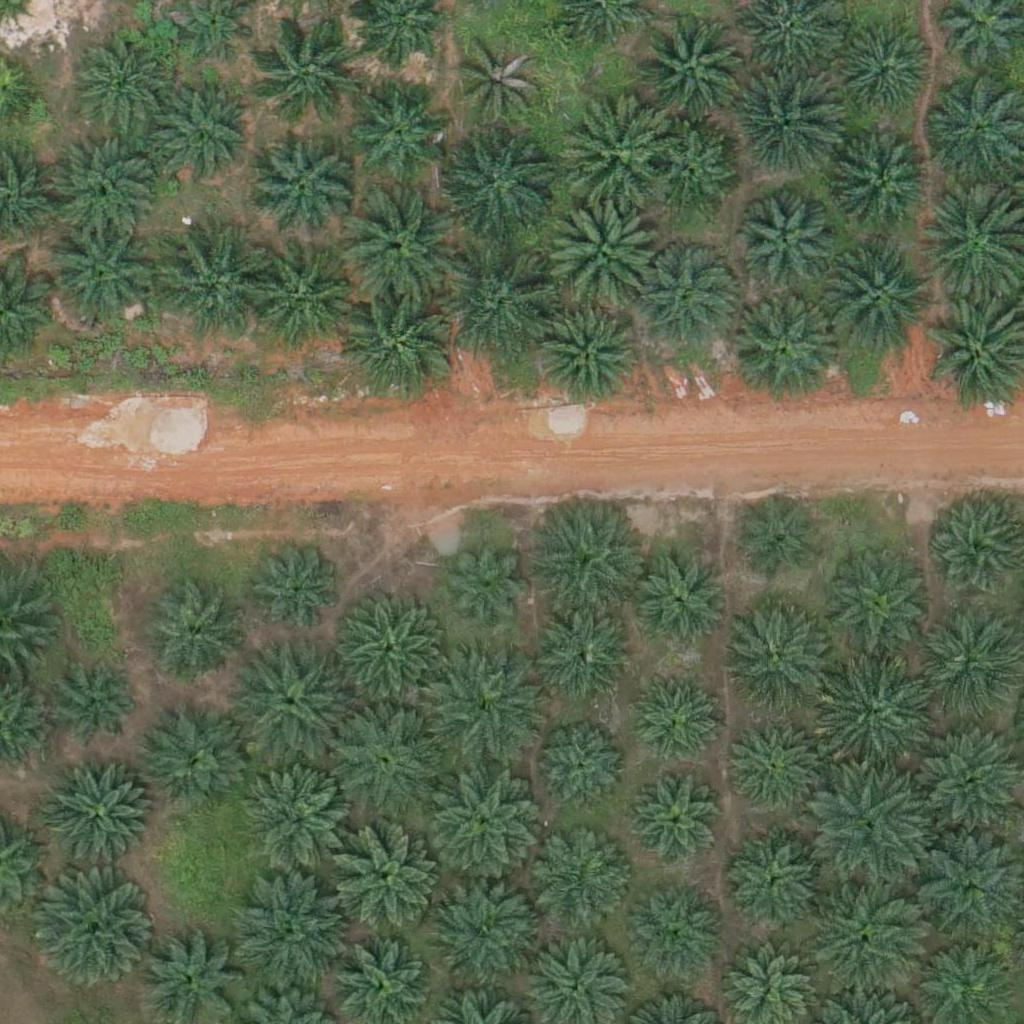Kelapa_Sawit: (430, 769, 543, 883), (34, 874, 147, 988), (731, 289, 844, 403), (818, 241, 931, 355), (430, 654, 543, 767), (328, 824, 441, 937), (328, 595, 441, 708), (242, 765, 355, 878), (812, 775, 925, 888), (807, 882, 920, 995), (713, 602, 826, 715), (730, 68, 843, 181), (342, 289, 455, 402), (47, 130, 160, 243), (44, 218, 157, 331), (430, 873, 542, 987), (327, 701, 439, 815), (818, 547, 930, 661), (530, 496, 642, 610), (254, 10, 366, 124), (152, 227, 264, 341), (240, 644, 352, 757), (237, 880, 349, 993), (45, 760, 157, 873), (817, 662, 929, 775), (613, 880, 725, 993), (520, 827, 632, 940), (635, 12, 747, 125), (558, 95, 670, 208), (545, 193, 657, 306), (447, 248, 559, 361), (443, 127, 555, 240), (341, 189, 453, 302), (242, 246, 354, 359), (246, 538, 346, 639), (141, 711, 241, 812), (922, 727, 1022, 828), (727, 832, 827, 933), (628, 769, 728, 870), (532, 608, 632, 709), (736, 198, 836, 299), (637, 242, 737, 343), (249, 135, 349, 236), (149, 86, 249, 187), (145, 588, 245, 688), (915, 614, 1015, 714), (624, 667, 724, 767), (631, 543, 731, 643), (837, 23, 937, 123), (833, 139, 933, 239), (536, 305, 636, 405), (347, 77, 447, 177), (72, 34, 172, 134), (735, 493, 823, 581), (728, 721, 816, 809), (647, 126, 735, 214), (447, 541, 534, 629), (54, 662, 141, 750), (542, 726, 629, 814), (457, 39, 544, 127)
